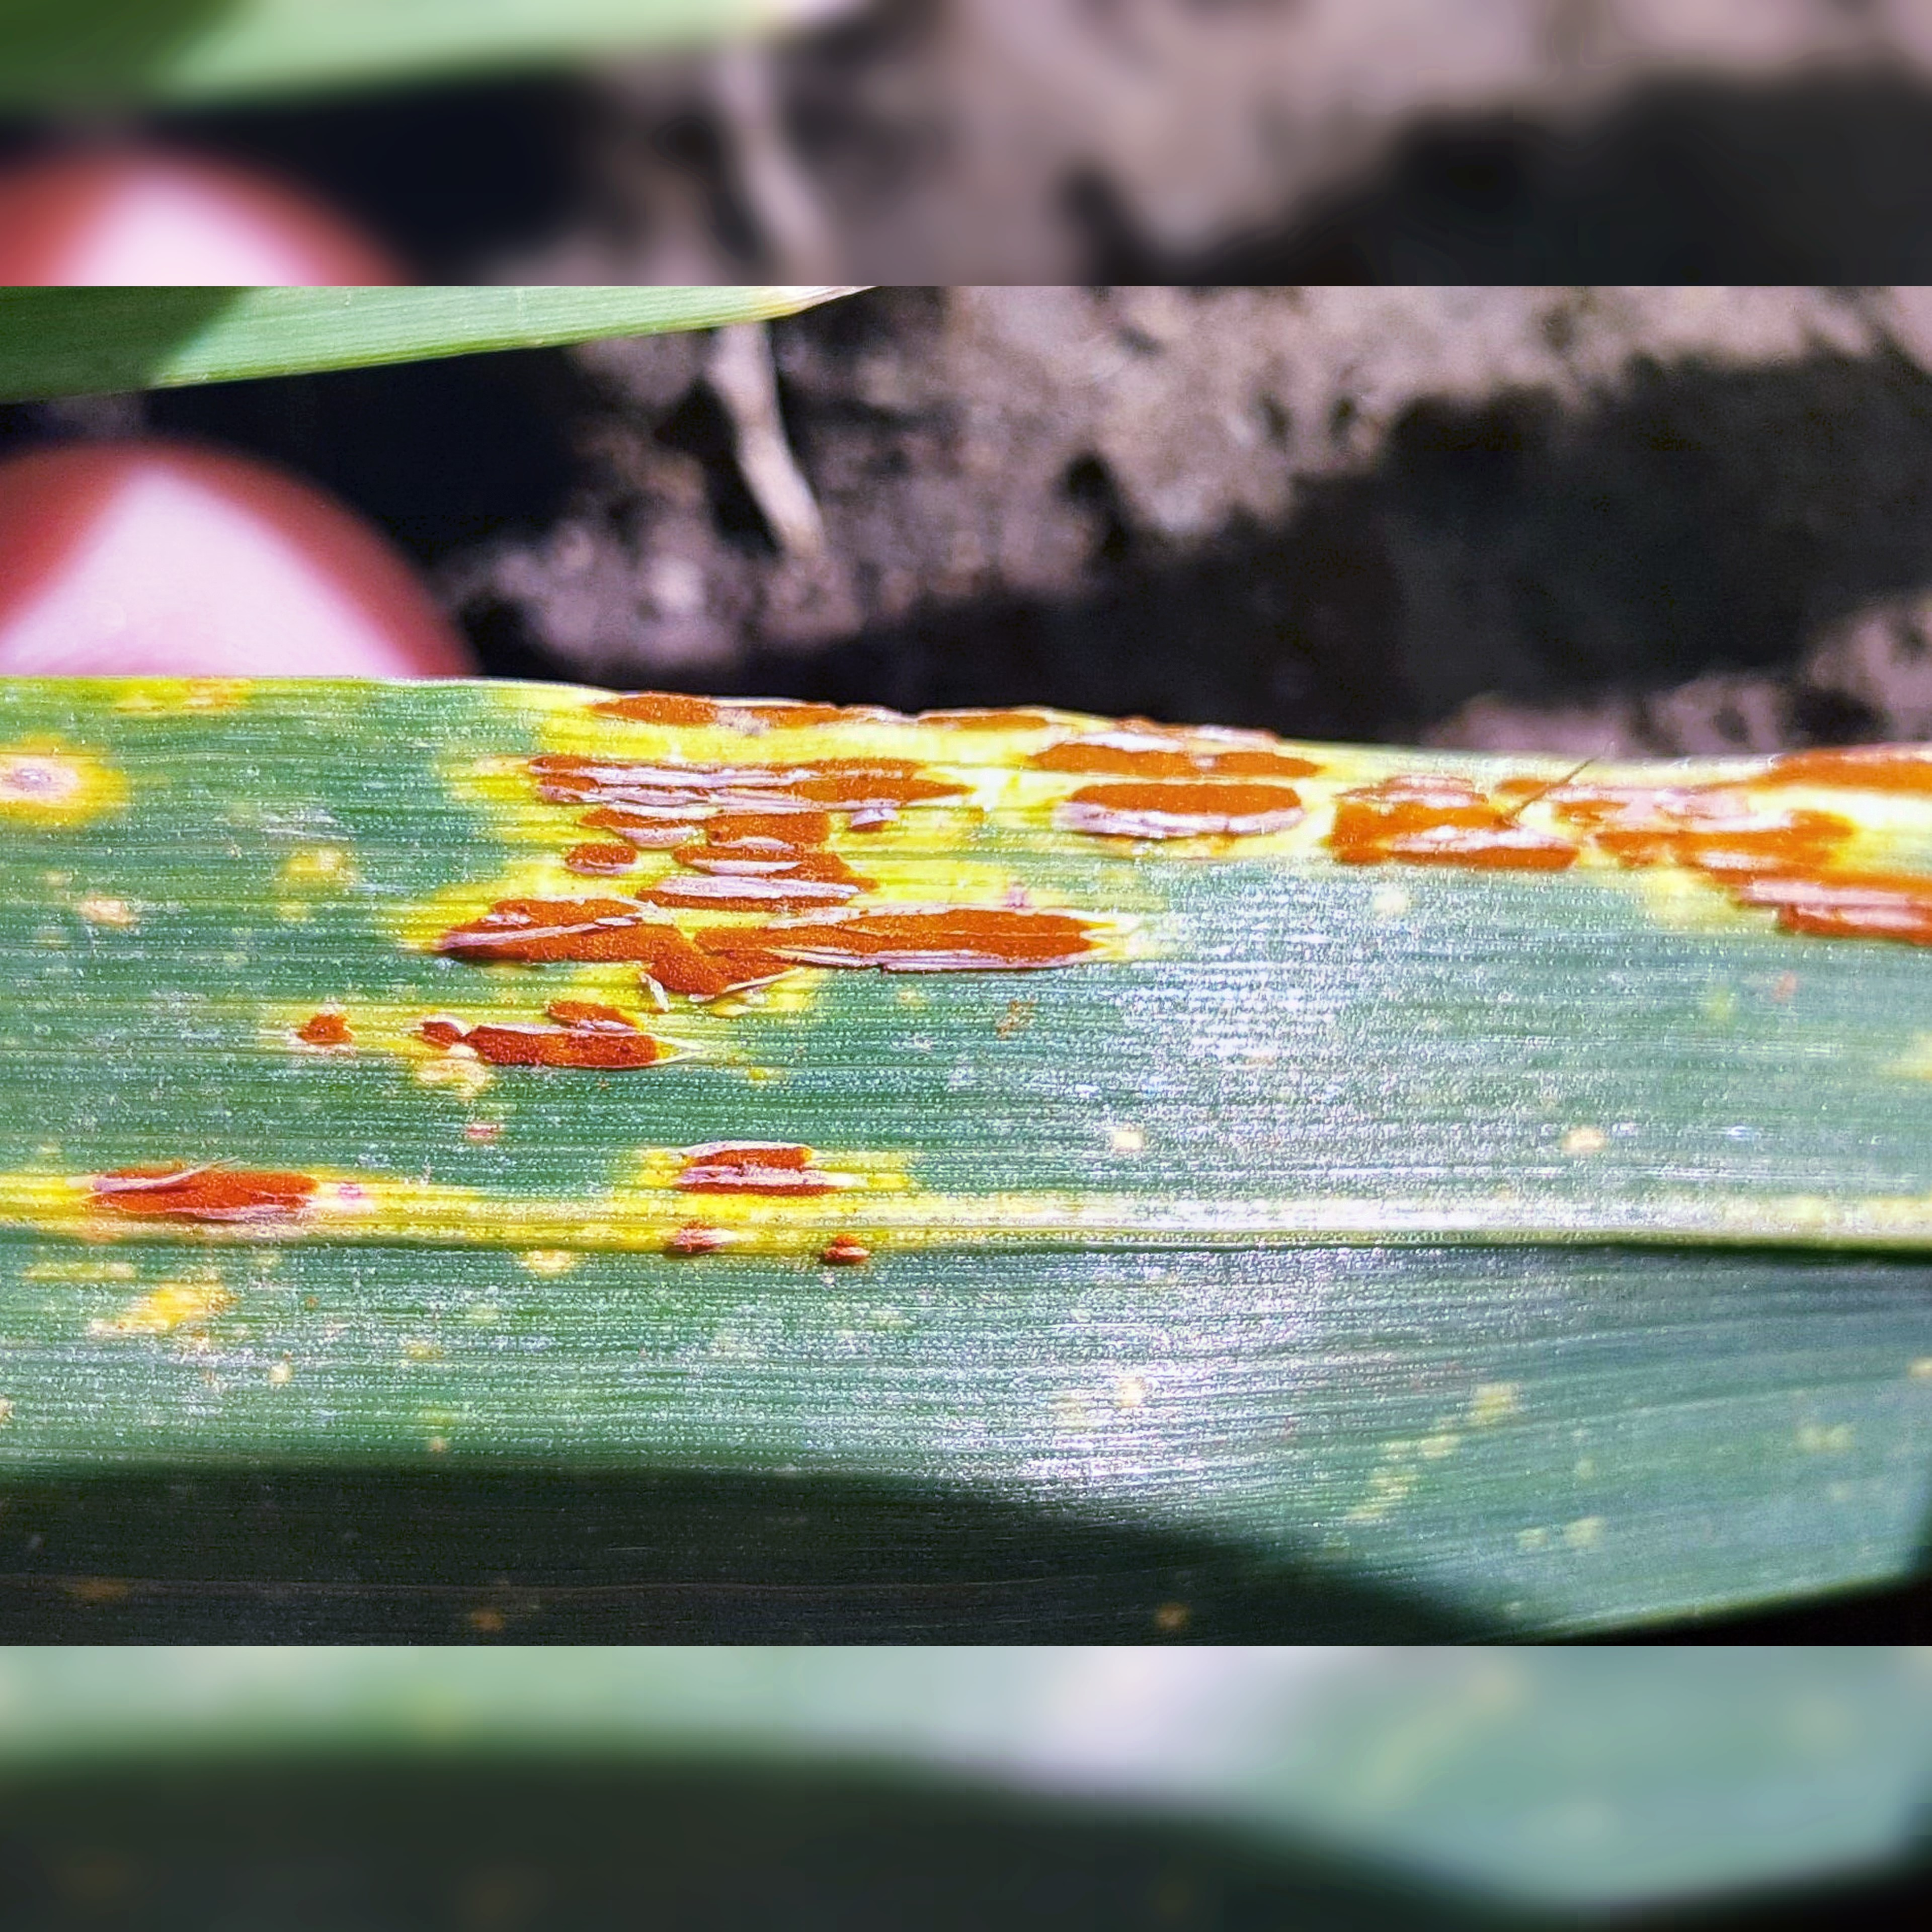Leaf Rust: (173, 619, 1932, 1311)
